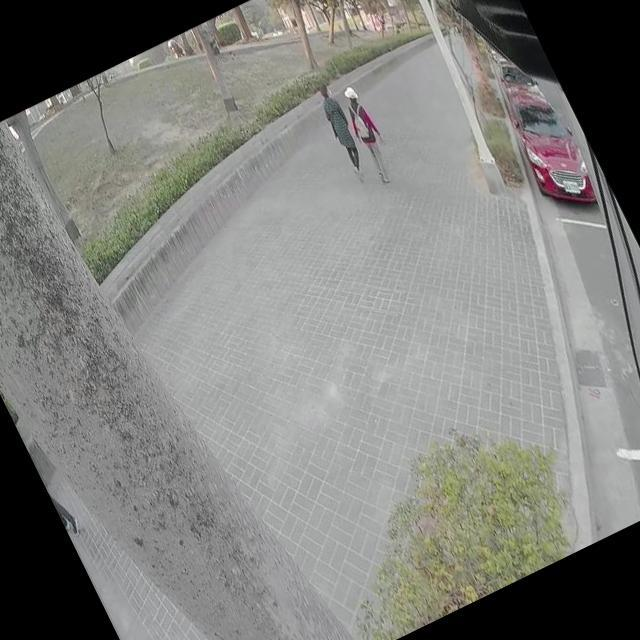person: (334, 82, 402, 188), (310, 80, 372, 180)
